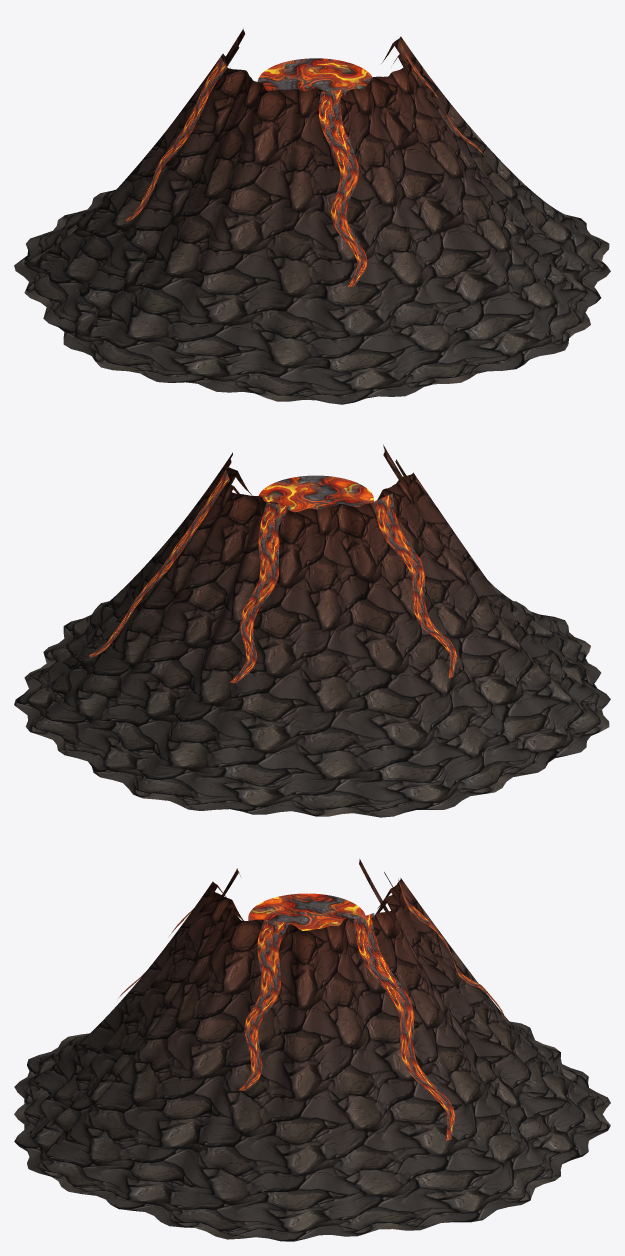
The model's file is landmark_volcano_cone_01.glb.
3 views of the same model, one above another, from view 1: azimuth 30°, elevation 25°; view 2: azimuth 150°, elevation 25°; view 3: azimuth 270°, elevation 25° (orthographic).
Visible parts, largest first — view 1: landmark_volcano_cone_01; view 2: landmark_volcano_cone_01; view 3: landmark_volcano_cone_01.
Part boxes in pixels (left/top/right/bottom): landmark_volcano_cone_01: left=14, top=29, right=610, bottom=404; landmark_volcano_cone_01: left=14, top=444, right=610, bottom=817; landmark_volcano_cone_01: left=14, top=859, right=610, bottom=1241.
Bounding box in the file's own units: 1 × 0.4154 × 0.9888.
Materials: 2 (2 with a texture image).
